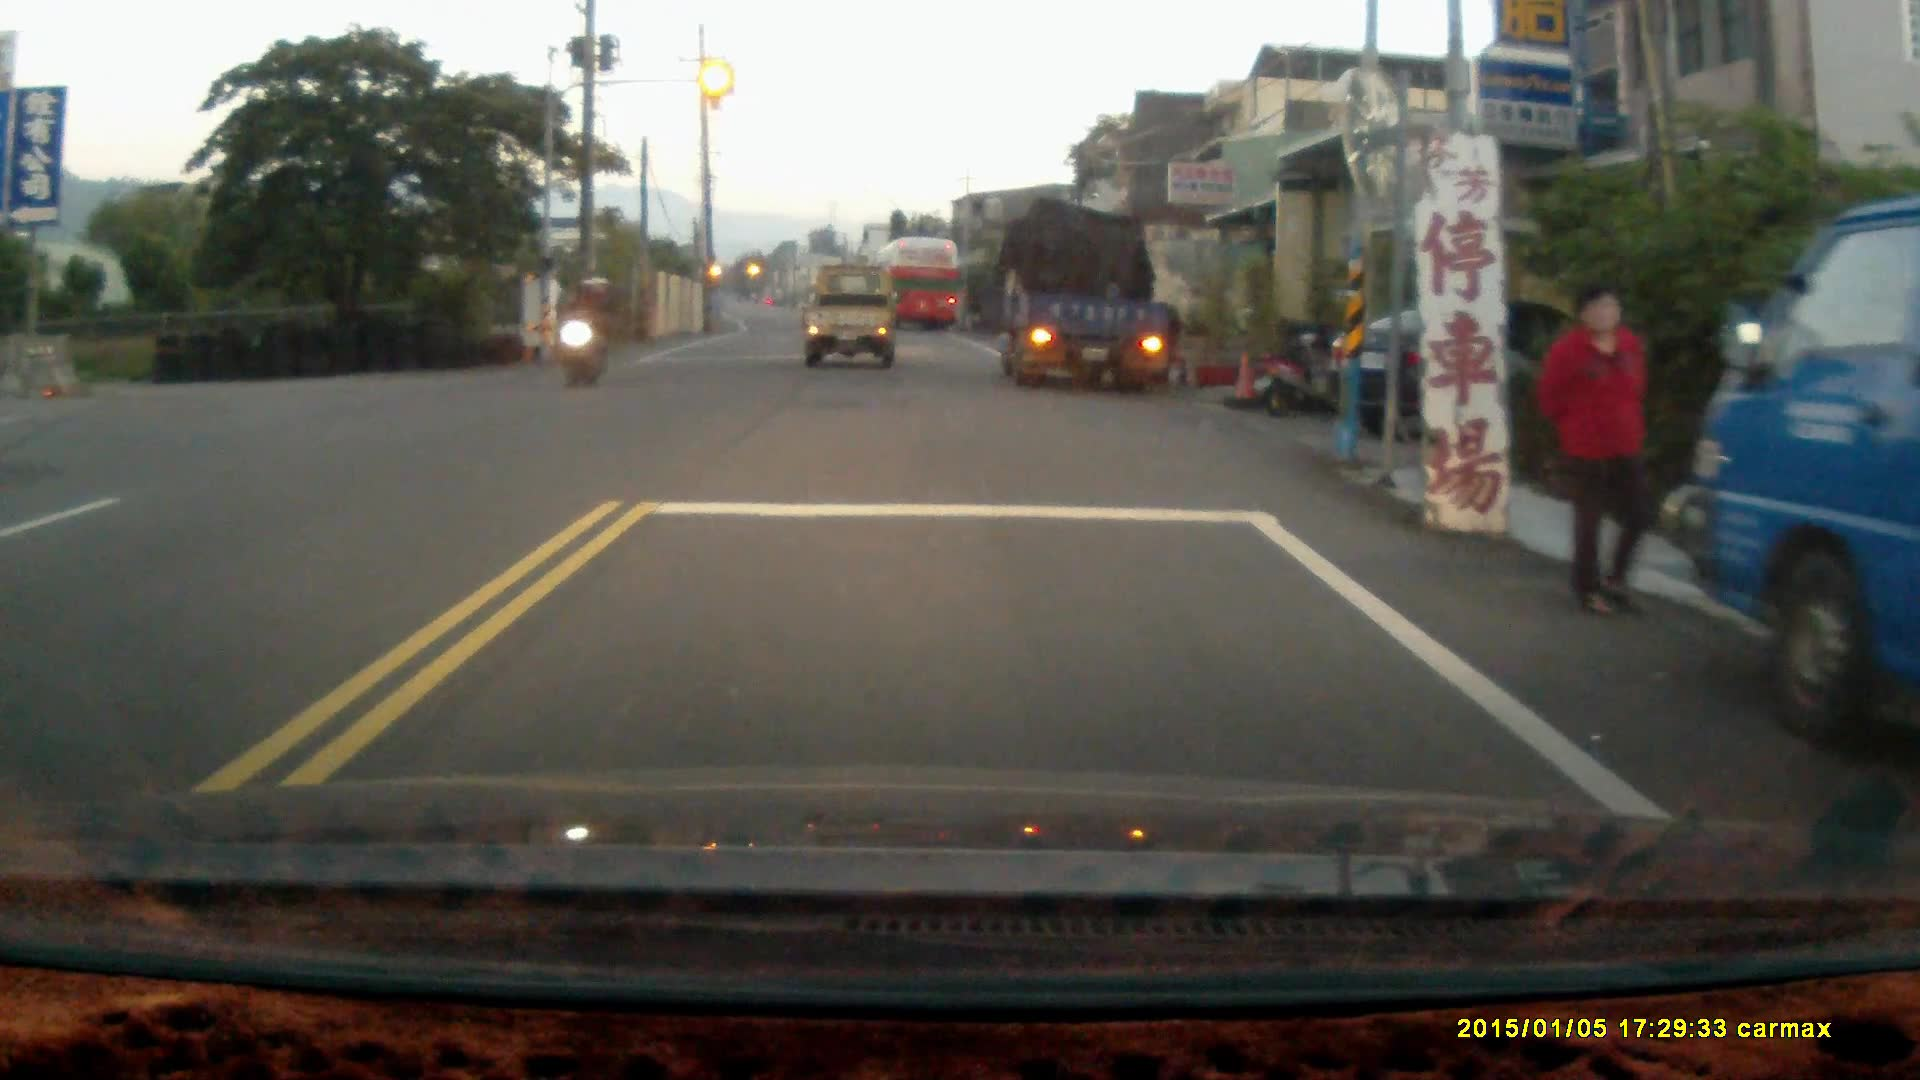pedestrian: (1538, 278, 1655, 617)
rider: (554, 272, 616, 389)
vehicle: (1685, 197, 1920, 746), (1334, 292, 1679, 448), (996, 198, 1181, 389), (804, 262, 899, 375), (873, 233, 967, 331)
